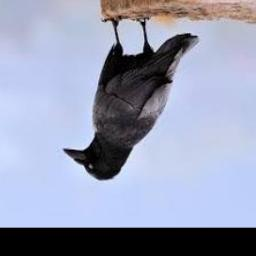Crow: (62, 16, 199, 182)
